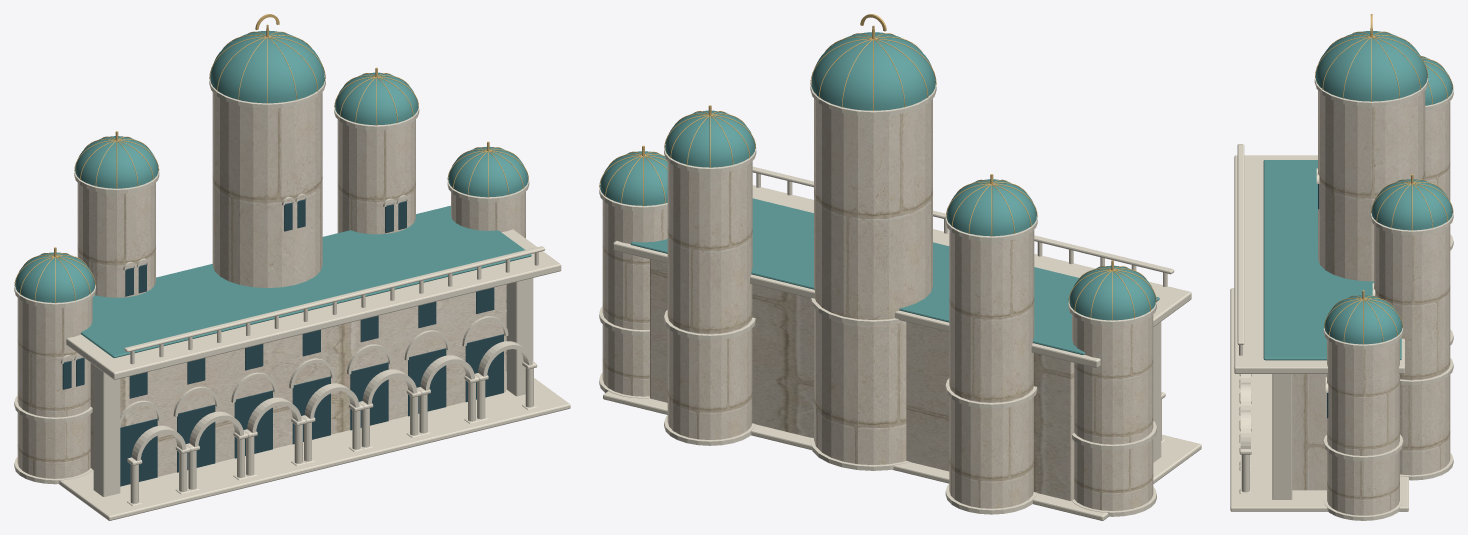
The model's file is world01-moon-palace-v1.glb.
The picture shows the model from 3 angles, left to right: view 1: azimuth 30°, elevation 25°; view 2: azimuth 150°, elevation 25°; view 3: azimuth 270°, elevation 25°; orthographic projection. The views are drawn at different scales.
Visible parts, largest first — view 1: Moon Palace - Ivory hand-cut limestone, Moon Palace - Warm honed edge stone, Moon Palace - Patinated blue-green copper, Moon Palace - Recessed indigo window, Moon Palace - Moon brass; view 2: Moon Palace - Ivory hand-cut limestone, Moon Palace - Patinated blue-green copper, Moon Palace - Warm honed edge stone, Moon Palace - Moon brass; view 3: Moon Palace - Ivory hand-cut limestone, Moon Palace - Patinated blue-green copper, Moon Palace - Warm honed edge stone, Moon Palace - Moon brass.
Boxes of the visible parts, box(x1,y1,x2,y2) form: Moon Palace - Ivory hand-cut limestone: box(17, 92, 525, 478); Moon Palace - Warm honed edge stone: box(14, 76, 570, 520); Moon Palace - Patinated blue-green copper: box(15, 30, 531, 357); Moon Palace - Recessed indigo window: box(62, 199, 503, 486); Moon Palace - Moon brass: box(14, 14, 528, 303); Moon Palace - Ivory hand-cut limestone: box(602, 99, 1153, 510); Moon Palace - Patinated blue-green copper: box(600, 32, 1159, 354); Moon Palace - Warm honed edge stone: box(599, 82, 1201, 520); Moon Palace - Moon brass: box(599, 14, 1156, 320); Moon Palace - Ivory hand-cut limestone: box(1292, 90, 1450, 515); Moon Palace - Patinated blue-green copper: box(1263, 31, 1452, 360); Moon Palace - Warm honed edge stone: box(1230, 78, 1453, 520); Moon Palace - Moon brass: box(1315, 14, 1453, 344).
Size of the model in its own units: 34.9 by 26.32 by 13.75.
Materials: 5 (1 with a texture image).
